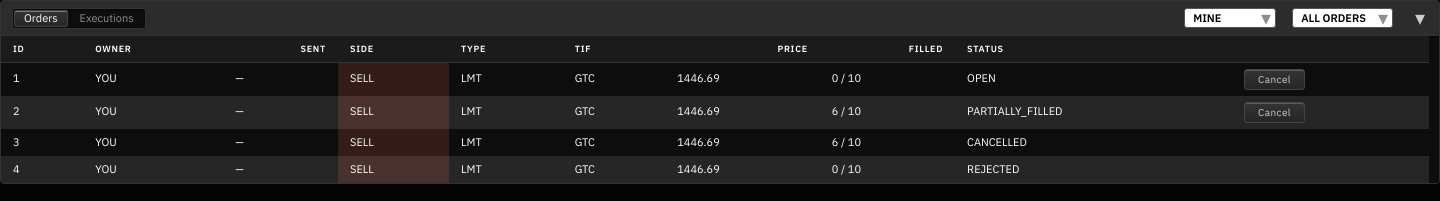
Test: blotter status filter (D6) › shows only the rows each option selects
Click the button with test id "blotter-filter-trigger" at (1343, 18), box [1292, 8, 1393, 28]
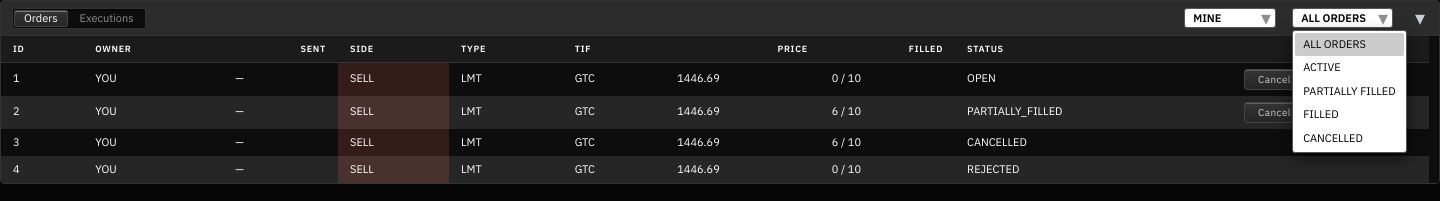
Press the mouse on the option with test id "blotter-filter-opt-ACTIVE" at (1322, 67), box [1303, 60, 1341, 74]
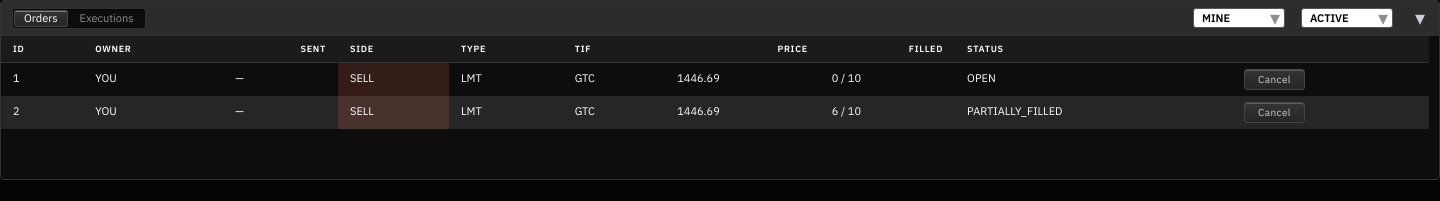
Click the button with test id "blotter-filter-trigger" at (1347, 18), box [1301, 8, 1393, 28]
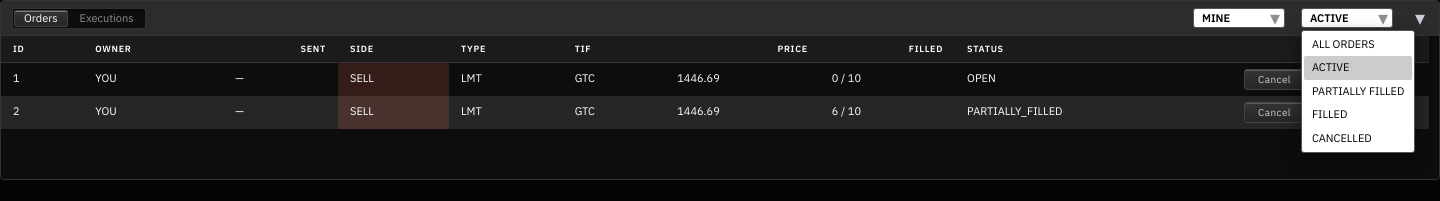
Press the mouse on the option "CANCELLED" at (1342, 138), box [1312, 131, 1372, 145]
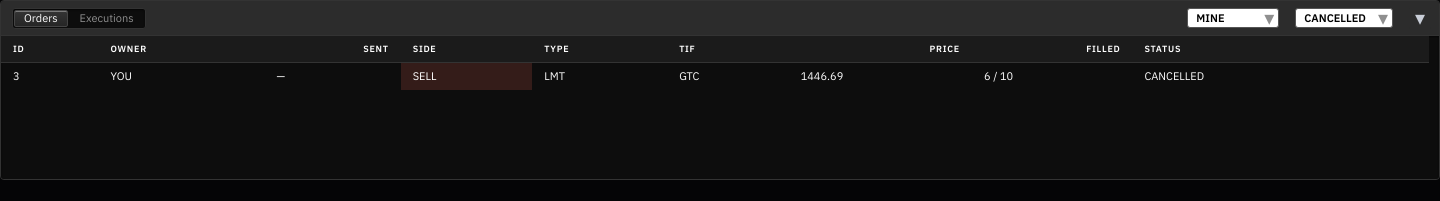
Result: the button with test id "blotter-filter-trigger" reads "CANCELLED" at [1295, 8, 1393, 28]
